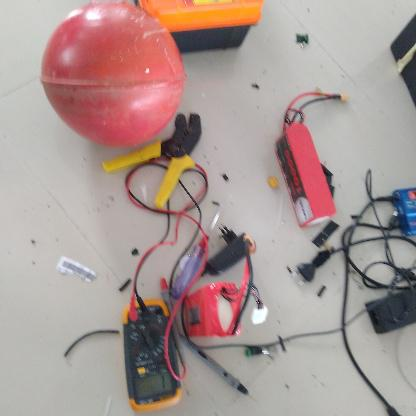red_buoy: (40, 3, 184, 152)
